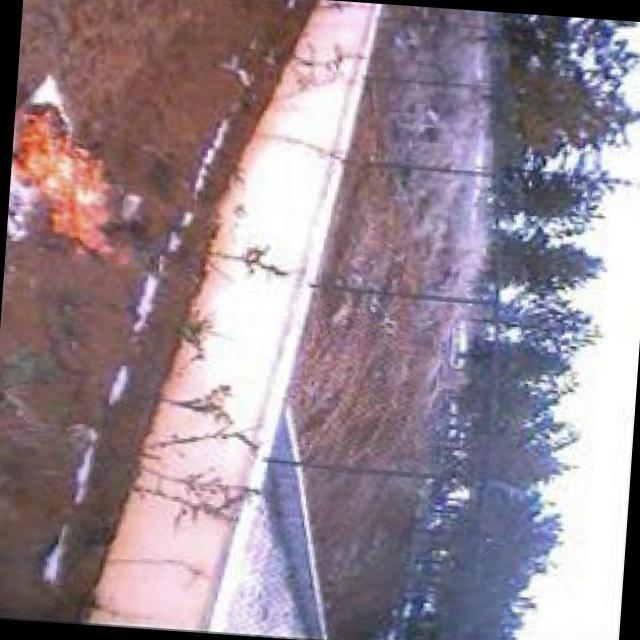Fire: (4, 100, 153, 277)
